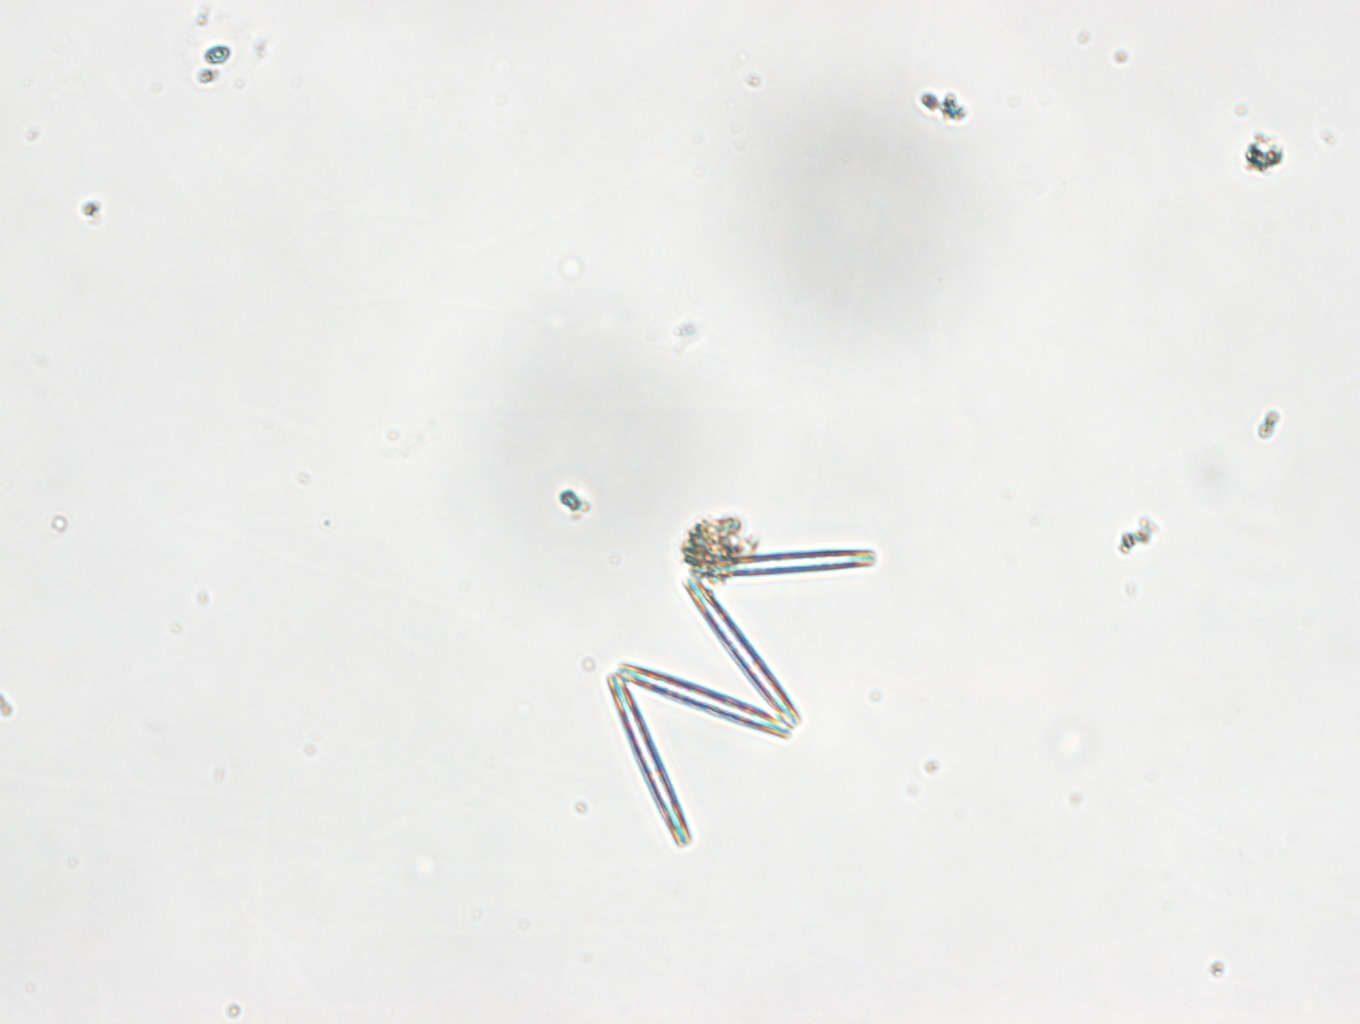thalassionema nitzschioides: (605, 549, 879, 845)
